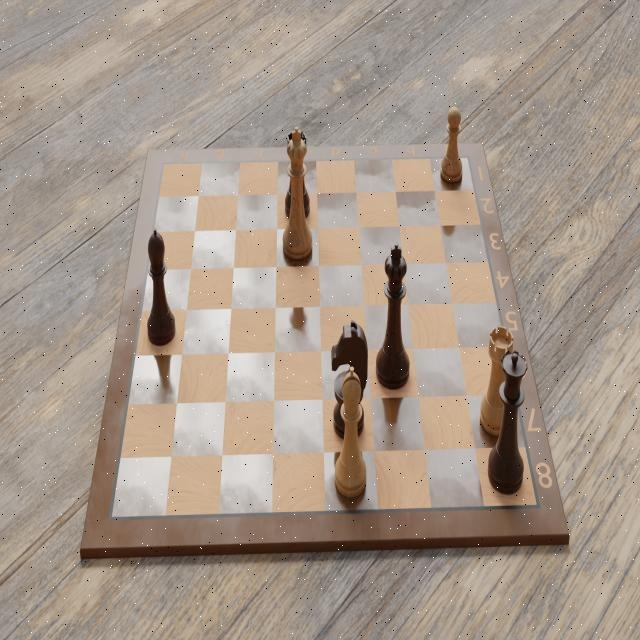black-bishop: (143, 226, 181, 347)
black-king: (374, 239, 415, 392)
black-knight: (326, 315, 370, 441)
black-queen: (483, 344, 529, 502)
black-rook: (280, 128, 315, 220)
white-bishop: (329, 365, 370, 507)
white-king: (280, 124, 316, 266)
white-pawn: (434, 104, 467, 191)
white-rook: (478, 322, 516, 440)
